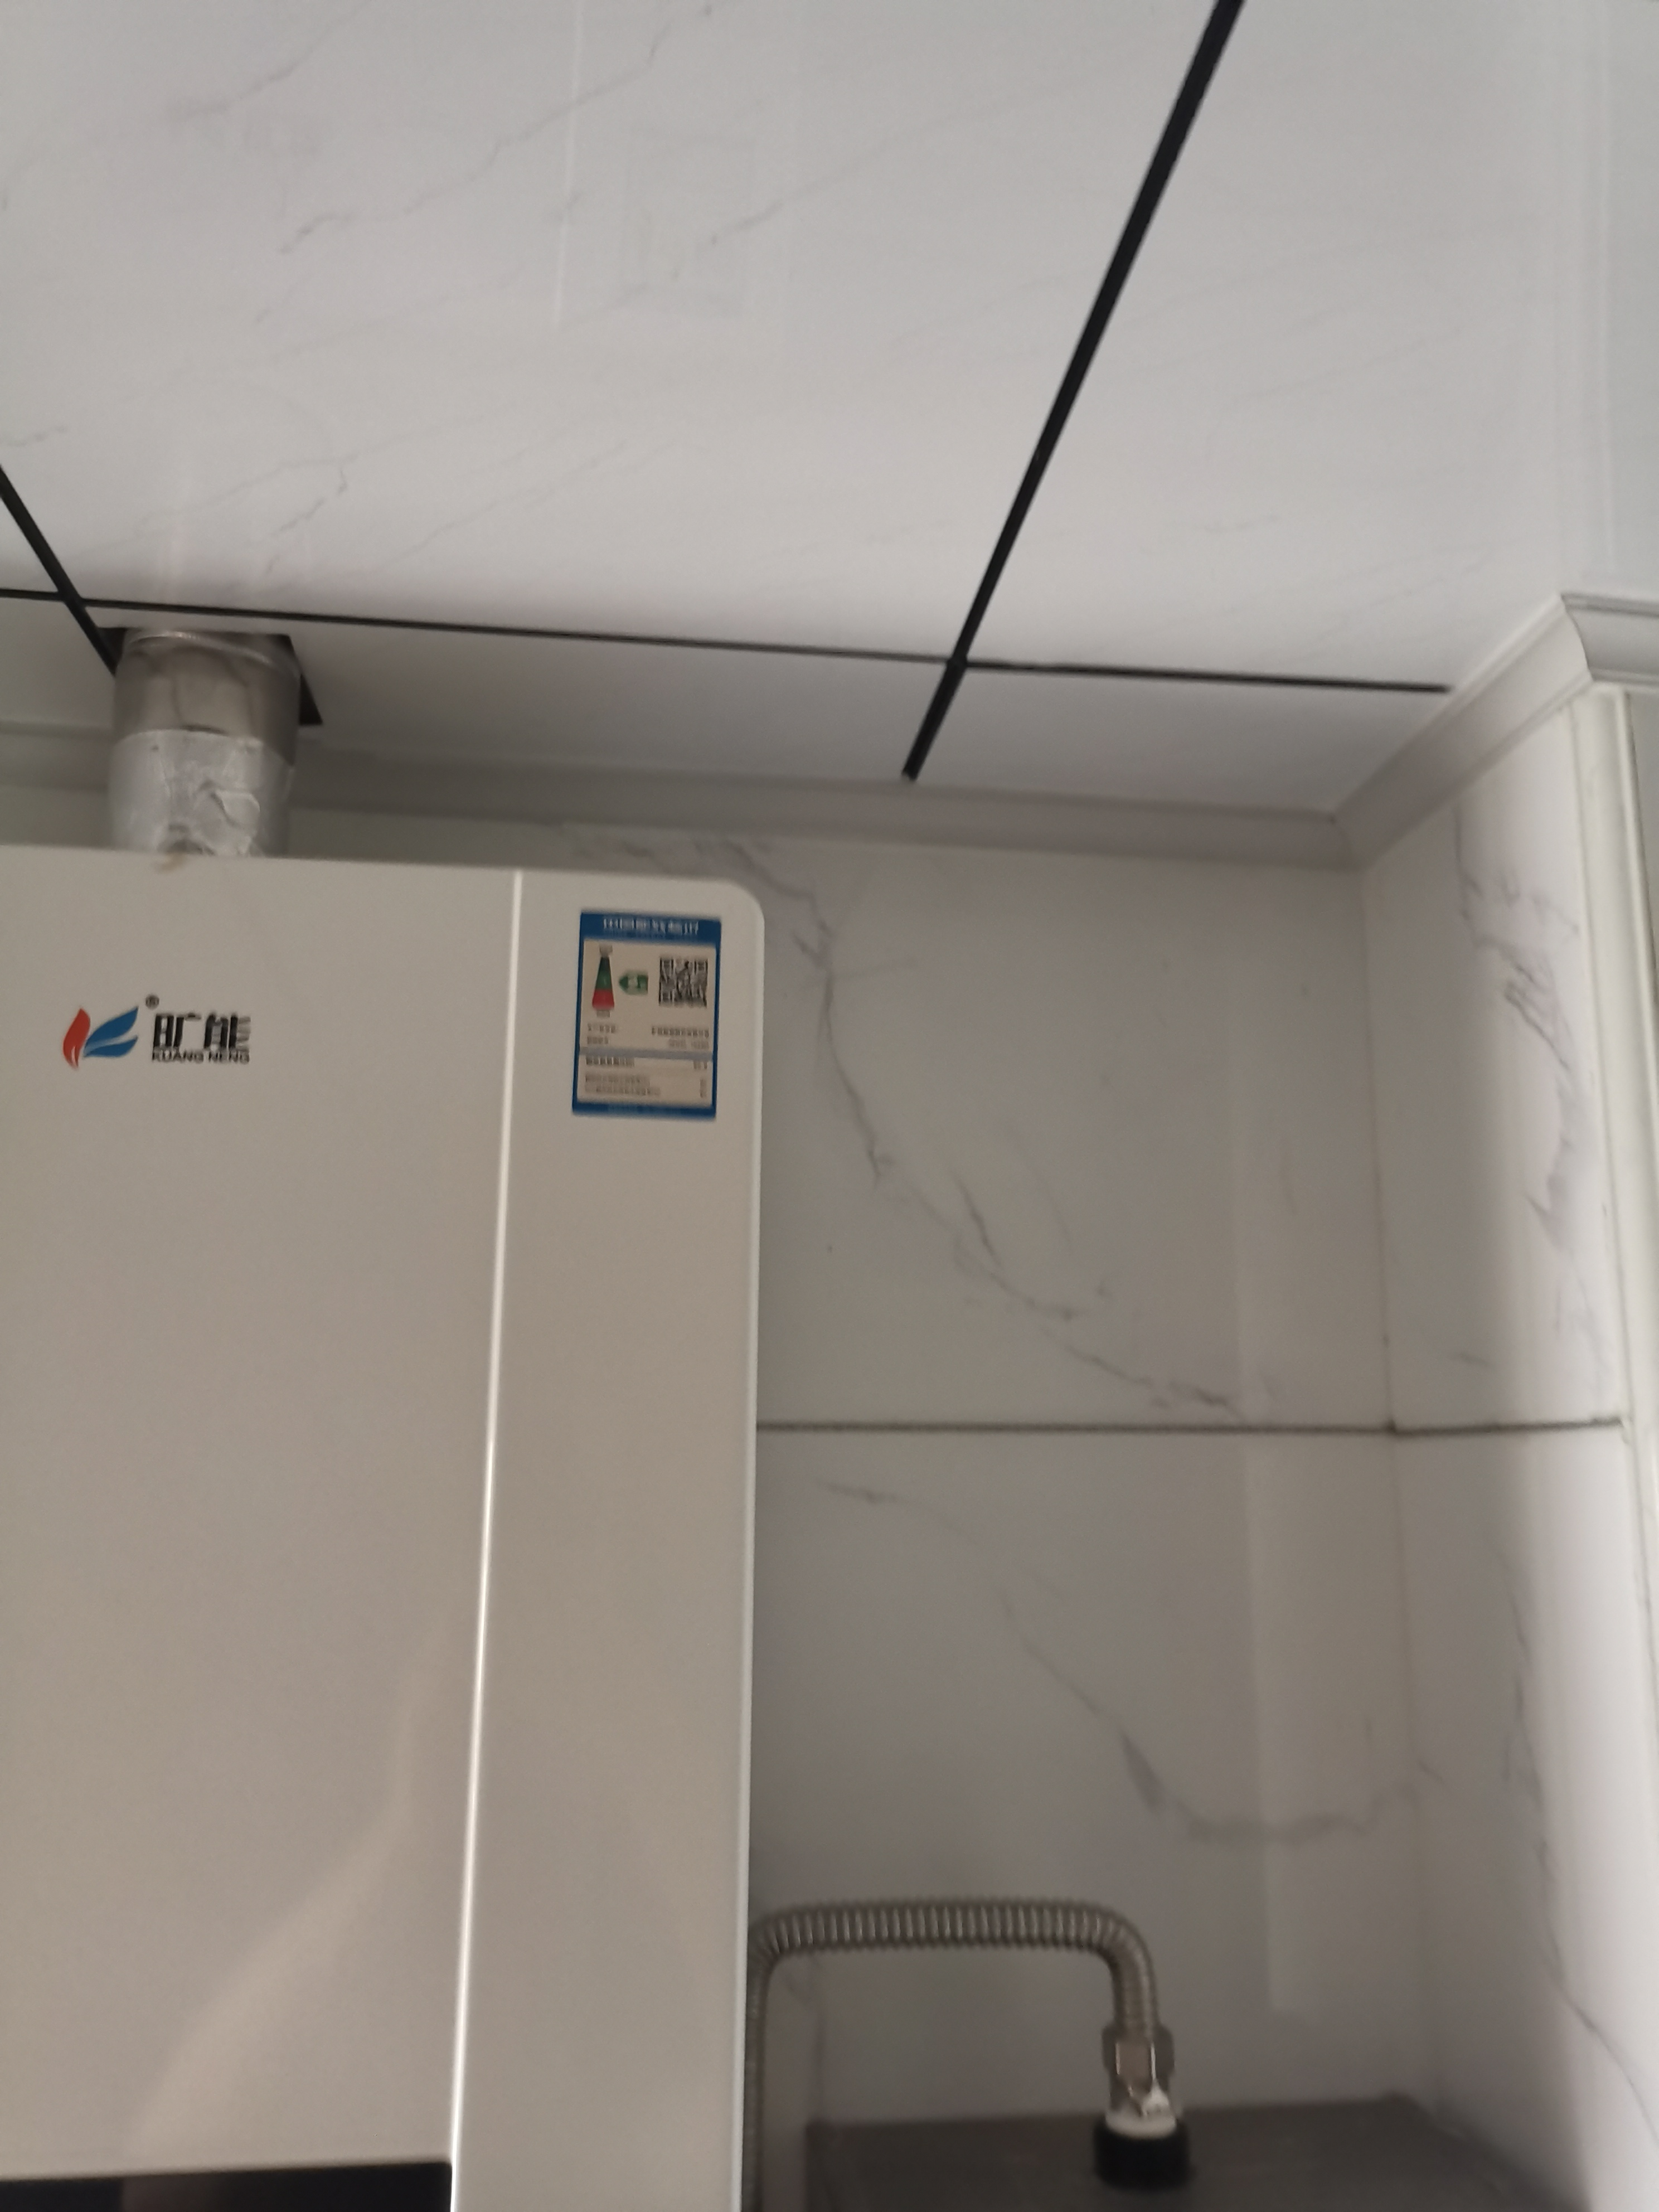loudou: (33, 979, 291, 1089)
